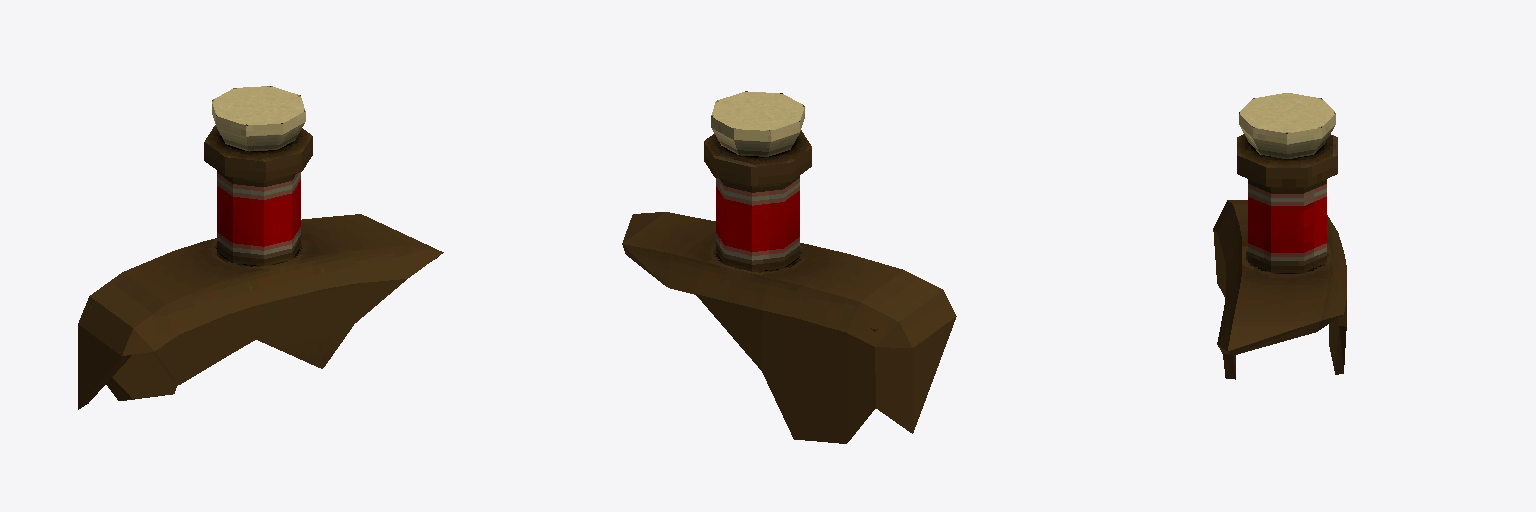
The picture shows the model from 3 angles: view 1: azimuth 30°, elevation 25°; view 2: azimuth 150°, elevation 25°; view 3: azimuth 270°, elevation 25°; orthographic projection.
Parts seen in each view (by area): view 1: WhiskyShardTop; view 2: WhiskyShardTop; view 3: WhiskyShardTop.
Part boxes in pixels (bbox=[...]): WhiskyShardTop: bbox=[78, 86, 443, 409]; WhiskyShardTop: bbox=[622, 91, 956, 443]; WhiskyShardTop: bbox=[1213, 93, 1346, 379].
Bounding box in the file's own units: 18.47 × 15.95 × 6.61.
Materials: 1 (1 with a texture image).